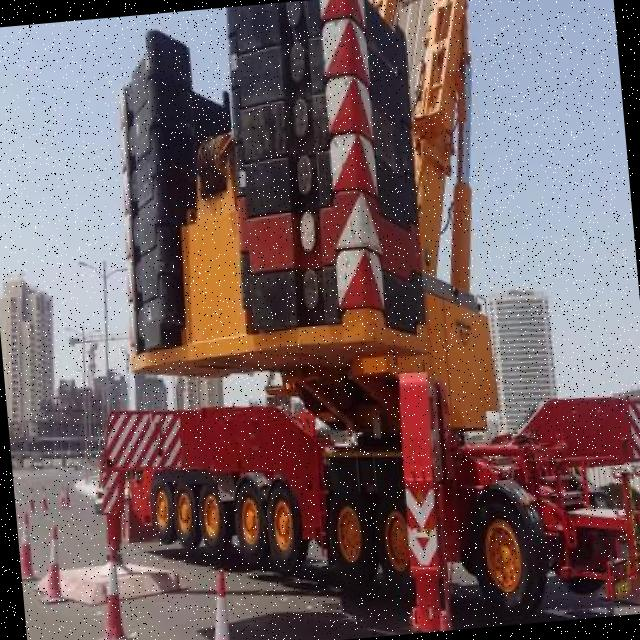Mobile Crane: (51, 0, 640, 640)
